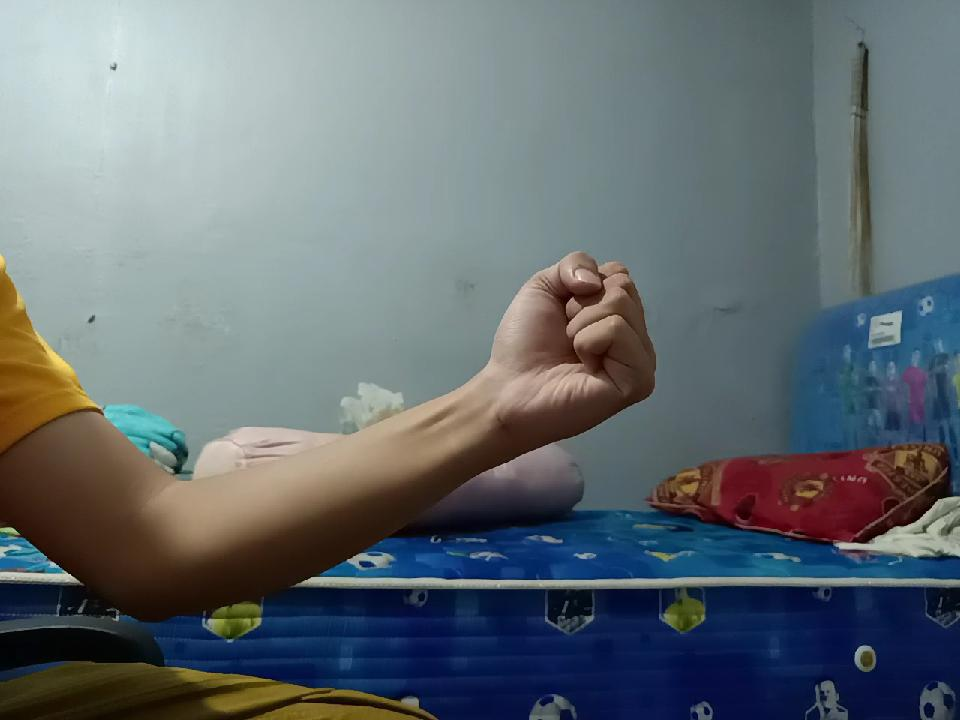rock: (490, 238, 662, 442)
